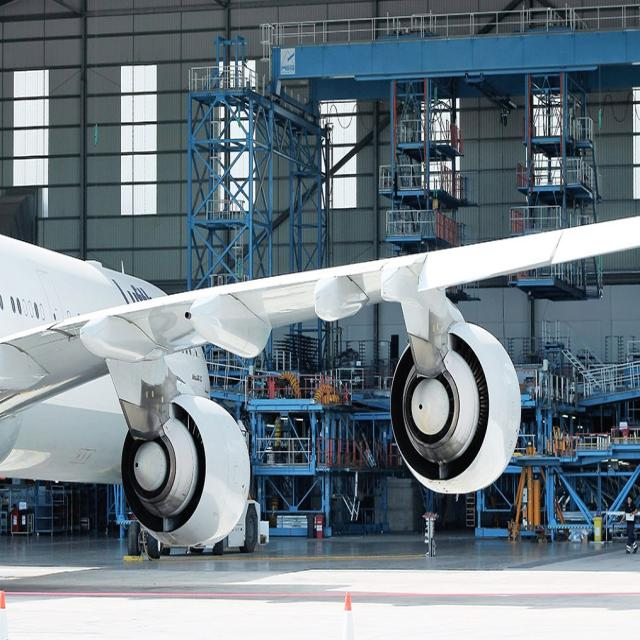B1: (3, 159, 640, 640)
